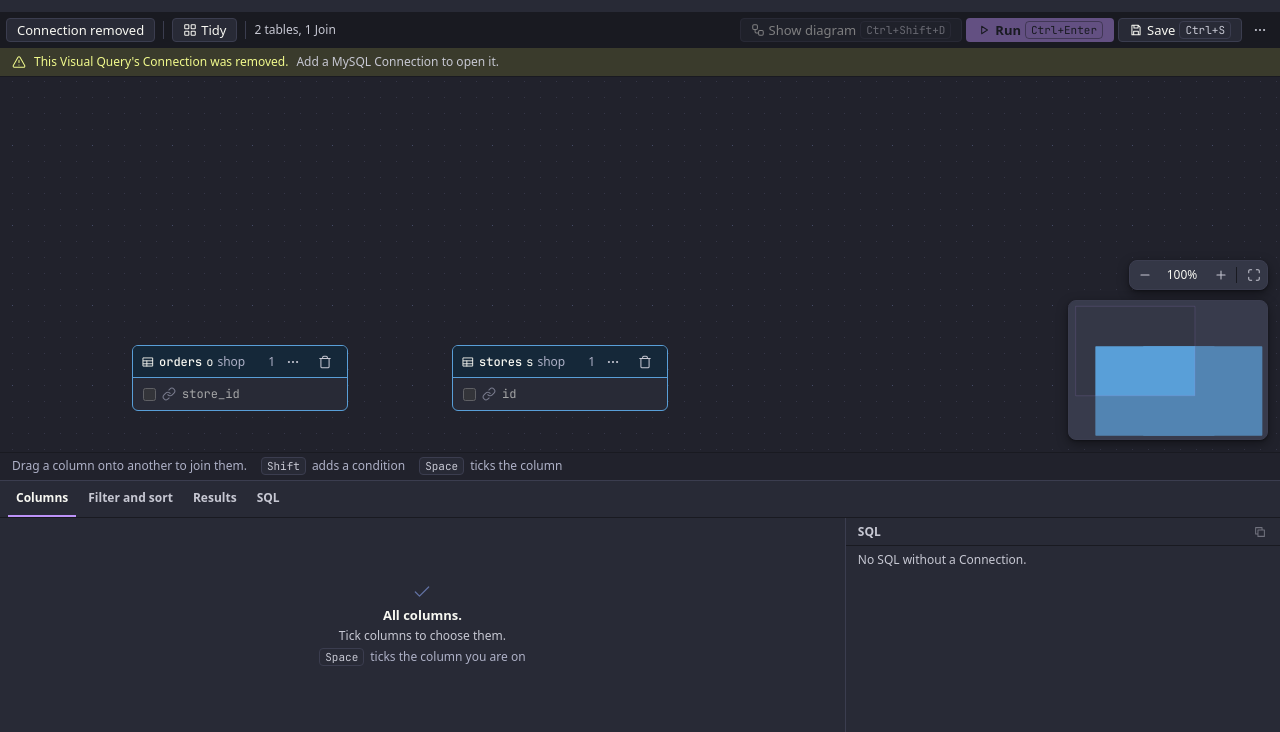
Test: review_minor_3_without_a_connection_the_sql_tab_does_not_say_it_is_writing
Click the tab "SQL" at (268, 499), box x1=249 y1=481 x2=288 y2=517
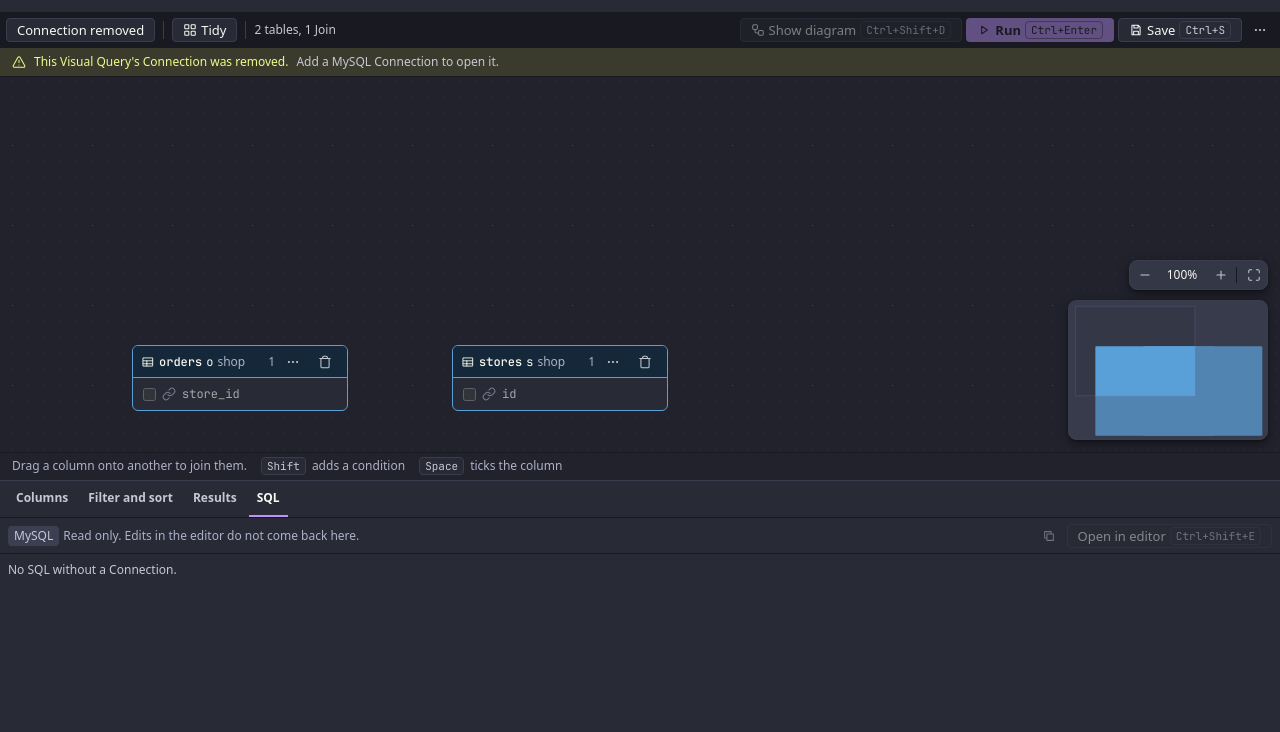
Expected: the text "No SQL without a Connection." is shown, x1=8 y1=561 x2=177 y2=578
